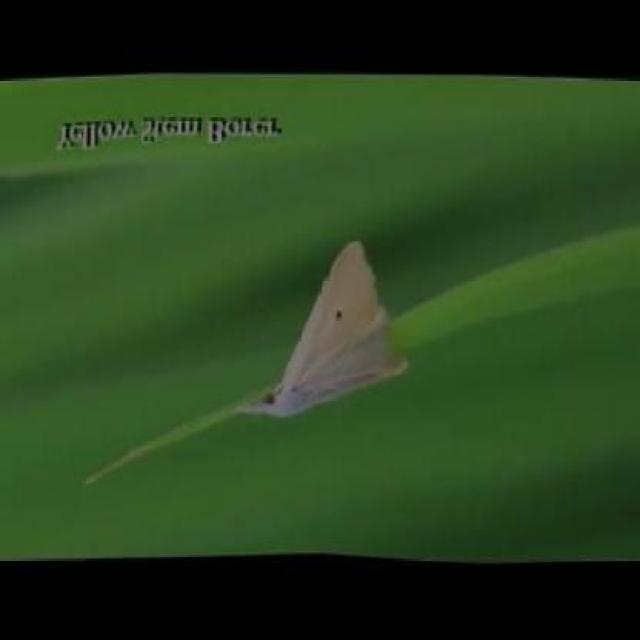stem-borer: (234, 236, 412, 422)
